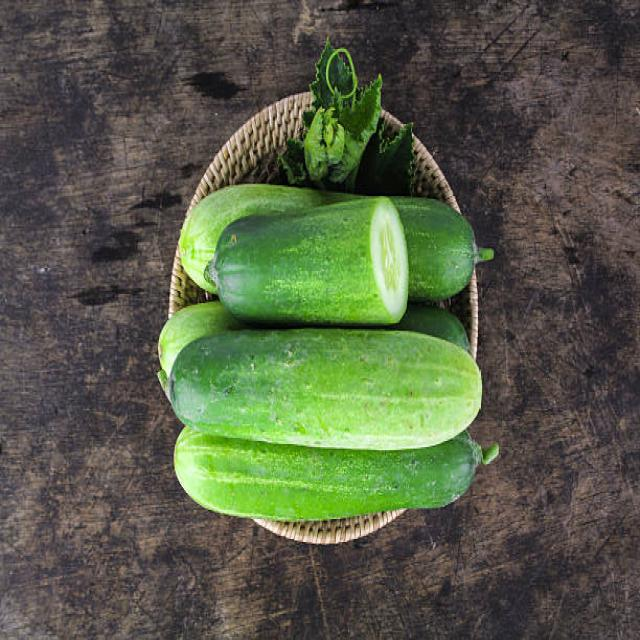cucumber: (168, 328, 482, 452), (174, 412, 476, 521), (216, 195, 407, 329)
